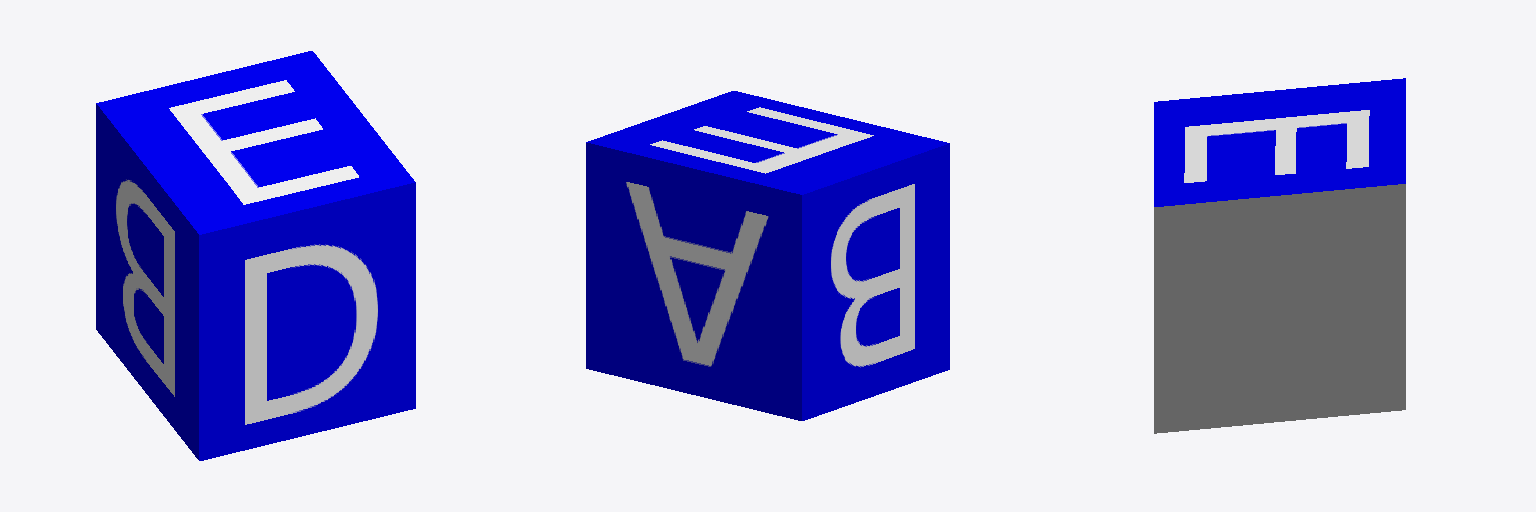
3 renders of one model, left to right at view 1: azimuth 30°, elevation 25°; view 2: azimuth 150°, elevation 25°; view 3: azimuth 270°, elevation 25°, orthographic.
Parts seen in each view (by area): view 1: Cube; view 2: Cube; view 3: Cube.
Boxes of the visible parts, x1,y1,x2,y2 form: Cube: [96, 51, 415, 460]; Cube: [586, 91, 949, 420]; Cube: [1154, 78, 1405, 433].
Bounding box in the file's own units: 2.21 × 2.31 × 2.01.
2 materials, 1 textured.